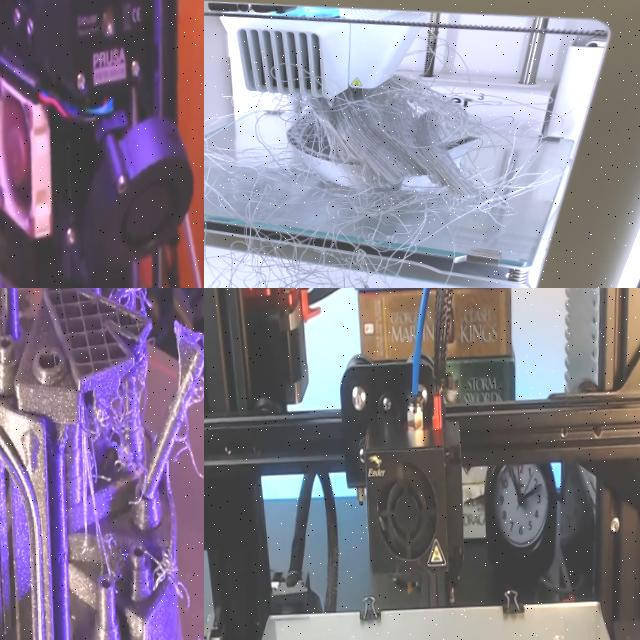spaghetti: (204, 35, 538, 288), (66, 369, 166, 603), (169, 377, 204, 488), (102, 288, 151, 313)
